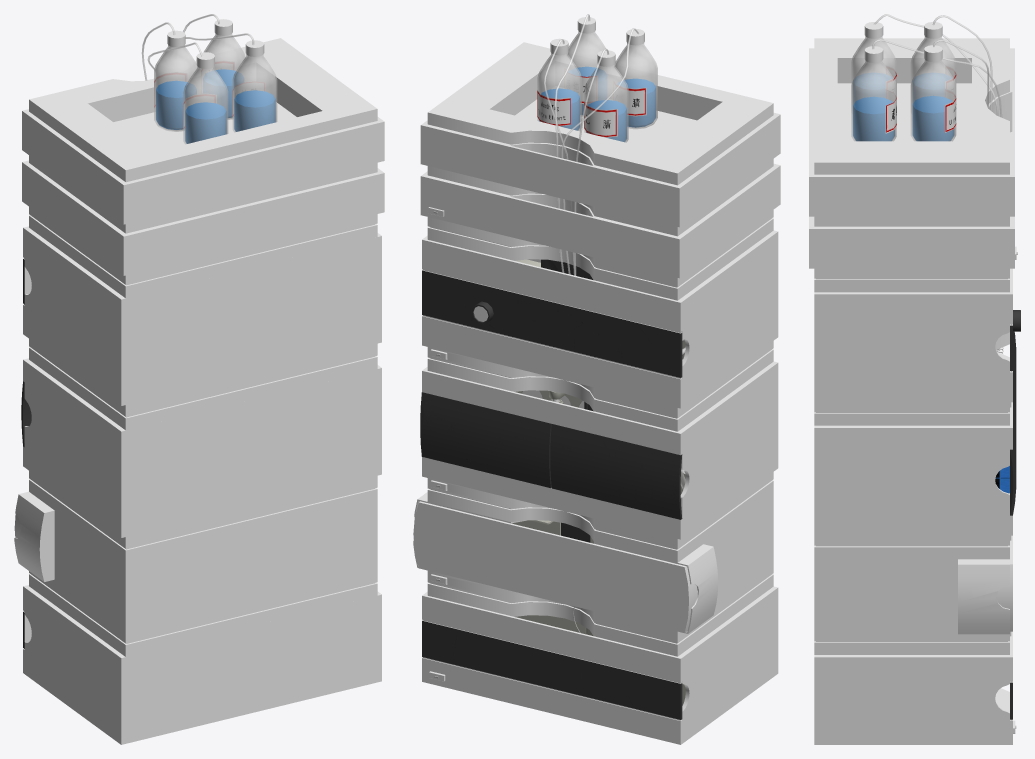
The model's file is SM_液相色谱仪.FBX.
3 renders of one model, left to right at view 1: azimuth 30°, elevation 25°; view 2: azimuth 150°, elevation 25°; view 3: azimuth 270°, elevation 25°, orthographic.
Visible parts, largest first — view 1: SM_二元泵_主体, SM_自动进样器_主体, SM_溶剂架, SM_柱温箱_主体, SM_检测器_主体, SM_在线脱气机, SM_流动C相_超纯水, SM_流动D相_乙腈, SM_流动B相_乙腈, SM_流动A相_AccQ-Tag Ultra Eluent, SM_管子; view 2: SM_二元泵_主体, SM_自动进样器_主体, SM_溶剂架, SM_柱温箱_主体, SM_检测器_主体, SM_在线脱气机, SM_自动进样器_门, SM_流动B相_乙腈, SM_流动A相_AccQ-Tag Ultra Eluent, SM_流动D相_乙腈, SM_流动C相_超纯水, SM_管子; view 3: SM_二元泵_主体, SM_溶剂架, SM_自动进样器_主体, SM_柱温箱_主体, SM_检测器_主体, SM_在线脱气机, SM_流动A相_AccQ-Tag Ultra Eluent, SM_流动C相_超纯水, SM_管子, SM_流动D相_乙腈, SM_流动B相_乙腈, SM_自动进样器_门.
Part boxes in pixels (x1,y1,x2,y2): SM_二元泵_主体: (23, 207, 381, 430); SM_自动进样器_主体: (21, 358, 381, 562); SM_溶剂架: (22, 38, 384, 224); SM_柱温箱_主体: (14, 491, 377, 656); SM_检测器_主体: (23, 585, 381, 744); SM_在线脱气机: (22, 155, 384, 275); SM_流动C相_超纯水: (232, 40, 277, 132); SM_流动D相_乙腈: (183, 52, 228, 144); SM_流动B相_乙腈: (154, 30, 197, 131); SM_流动A相_AccQ-Tag Ultra Eluent: (204, 19, 245, 119); SM_管子: (141, 14, 254, 80); SM_二元泵_主体: (422, 210, 778, 431); SM_自动进样器_主体: (422, 361, 778, 562); SM_溶剂架: (420, 42, 780, 227); SM_柱温箱_主体: (413, 492, 773, 656); SM_检测器_主体: (422, 586, 778, 744); SM_在线脱气机: (420, 159, 780, 278); SM_自动进样器_门: (420, 392, 551, 487); SM_流动B相_乙腈: (584, 50, 628, 142); SM_流动A相_AccQ-Tag Ultra Eluent: (537, 38, 581, 131); SM_流动D相_乙腈: (614, 29, 657, 129); SM_流动C相_超纯水: (567, 17, 606, 116); SM_管子: (544, 14, 639, 275); SM_二元泵_主体: (814, 268, 1012, 425); SM_溶剂架: (809, 38, 1014, 216); SM_自动进样器_主体: (814, 331, 1016, 559); SM_柱温箱_主体: (814, 535, 1012, 654); SM_检测器_主体: (814, 631, 1012, 744); SM_在线脱气机: (809, 132, 1014, 268); SM_流动A相_AccQ-Tag Ultra Eluent: (910, 45, 956, 141); SM_流动C相_超纯水: (851, 46, 896, 141); SM_管子: (872, 14, 1002, 117); SM_流动D相_乙腈: (851, 22, 896, 113); SM_流动B相_乙腈: (910, 22, 956, 113); SM_自动进样器_门: (1010, 387, 1016, 515).
Bounding box in the file's own units: 467 × 1028 × 300.
